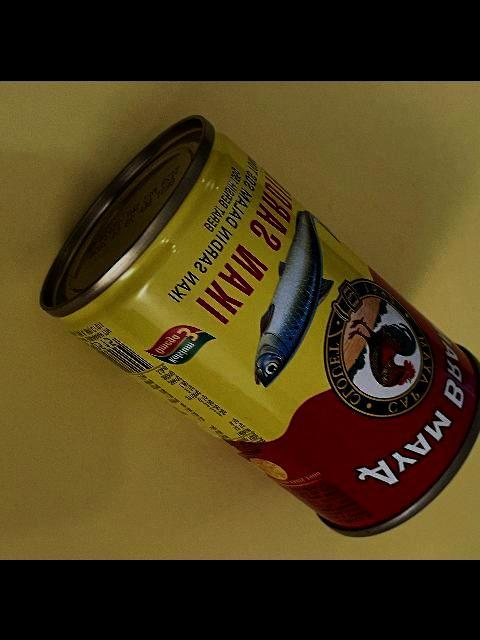foodcan: (37, 112, 480, 538)
